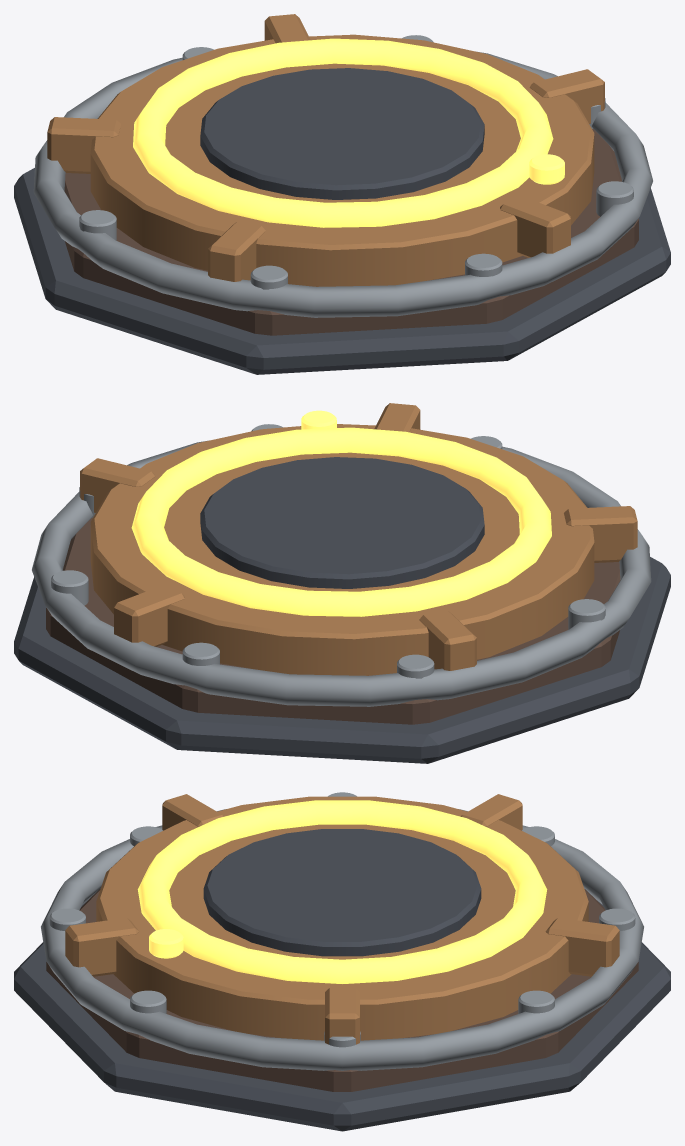
File: cannon_base_l1.glb
3 views of the same model, one above another, from view 1: azimuth 30°, elevation 25°; view 2: azimuth 150°, elevation 25°; view 3: azimuth 270°, elevation 25° (orthographic). The views are drawn at different scales.
Visible parts, largest first — view 1: Cylinder.002, Cylinder.003, Cylinder, Torus, Torus.001, Cylinder.001, Cube.004, Cube.002, Cube.003, Cube, Cube.001, Cylinder.012 (+4 smaller); view 2: Cylinder.002, Cylinder.003, Cylinder, Torus, Torus.001, Cylinder.001, Cube.001, Cube.003, Cube.002, Cube, Cube.004, Cylinder.005 (+4 smaller); view 3: Cylinder.002, Cylinder, Cylinder.003, Torus, Torus.001, Cylinder.001, Cube.001, Cube.004, Cube, Cube.002, Cube.003, Cylinder.012 (+4 smaller).
Part boxes in pixels (x1,y1,x2,y2): Cylinder.002: (90, 34, 594, 286); Cylinder.003: (200, 68, 484, 199); Cylinder: (14, 168, 670, 374); Torus: (33, 51, 652, 317); Torus.001: (133, 38, 553, 227); Cylinder.001: (64, 129, 638, 335); Cube.004: (500, 196, 570, 257); Cube.002: (47, 117, 120, 173); Cube.003: (208, 221, 265, 281); Cube: (530, 69, 604, 123); Cube.001: (264, 14, 310, 43); Cylinder.012: (529, 154, 564, 184); Cylinder.002: (90, 424, 594, 675); Cylinder.003: (200, 457, 484, 588); Cylinder: (14, 557, 670, 763); Torus: (32, 440, 651, 706); Torus.001: (131, 427, 551, 616); Cylinder.001: (46, 518, 620, 724); Cube.001: (114, 585, 184, 646); Cube.003: (564, 506, 637, 562); Cube.002: (419, 610, 476, 670); Cube: (80, 458, 154, 512); Cube.004: (374, 403, 420, 432); Cylinder.005: (51, 570, 88, 605); Cylinder.002: (96, 796, 588, 1040); Cylinder: (14, 900, 670, 1131); Cylinder.003: (203, 829, 481, 956); Torus: (41, 809, 643, 1070); Torus.001: (137, 800, 547, 983); Cylinder.001: (46, 889, 638, 1091); Cube.001: (545, 918, 619, 976); Cube.004: (65, 918, 139, 976); Cube: (325, 988, 359, 1044); Cube.002: (460, 794, 522, 830); Cube.003: (162, 794, 224, 830); Cylinder.012: (149, 929, 183, 958).
Bounding box in the file's own units: 2.08 × 0.4 × 2.08.
